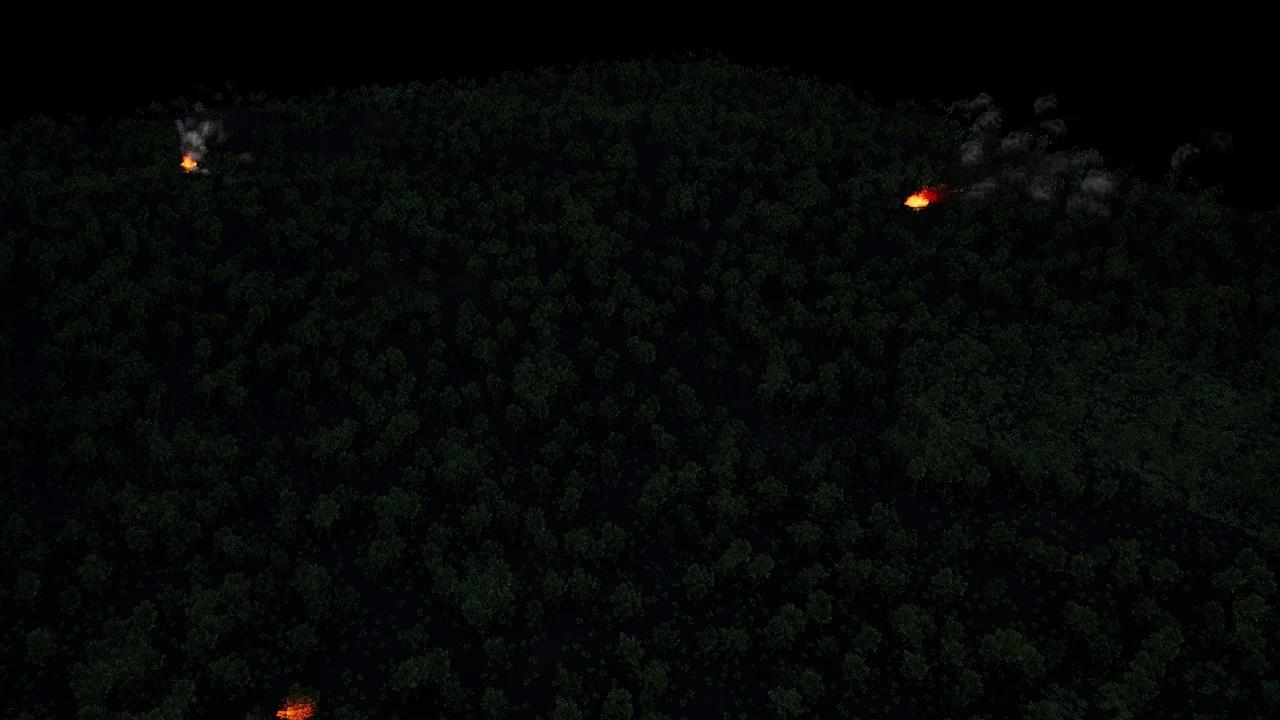fire: (274, 698, 316, 720), (906, 190, 935, 210), (184, 155, 199, 171)
smoke: (928, 93, 1120, 218), (1161, 127, 1228, 175), (176, 109, 225, 156)
